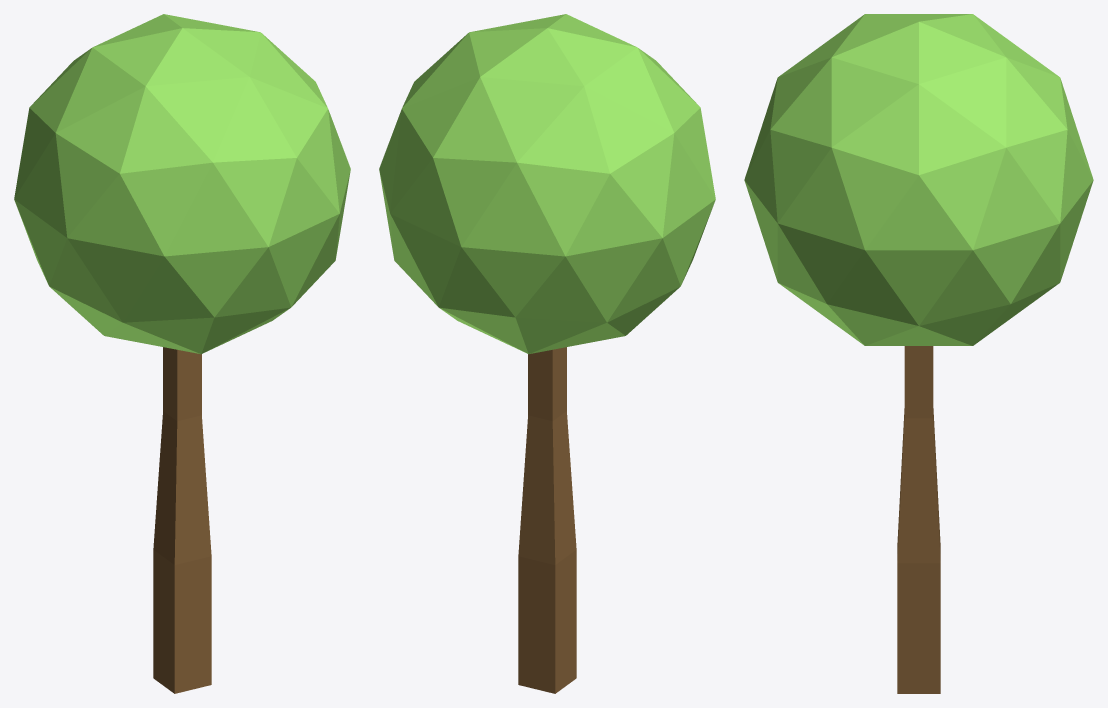
Rendered from tree.glb.
The picture shows the model from 3 angles, left to right: view 1: azimuth 30°, elevation 25°; view 2: azimuth 150°, elevation 25°; view 3: azimuth 270°, elevation 25°; orthographic projection.
Visible parts, largest first — view 1: Cube; view 2: Cube; view 3: Cube.
Part boxes in pixels (x1,y1,x2,y2): Cube: (14, 14, 350, 693); Cube: (379, 14, 715, 693); Cube: (744, 14, 1093, 693).
Size of the model in its own units: 4.61 by 10.15 by 4.85.
